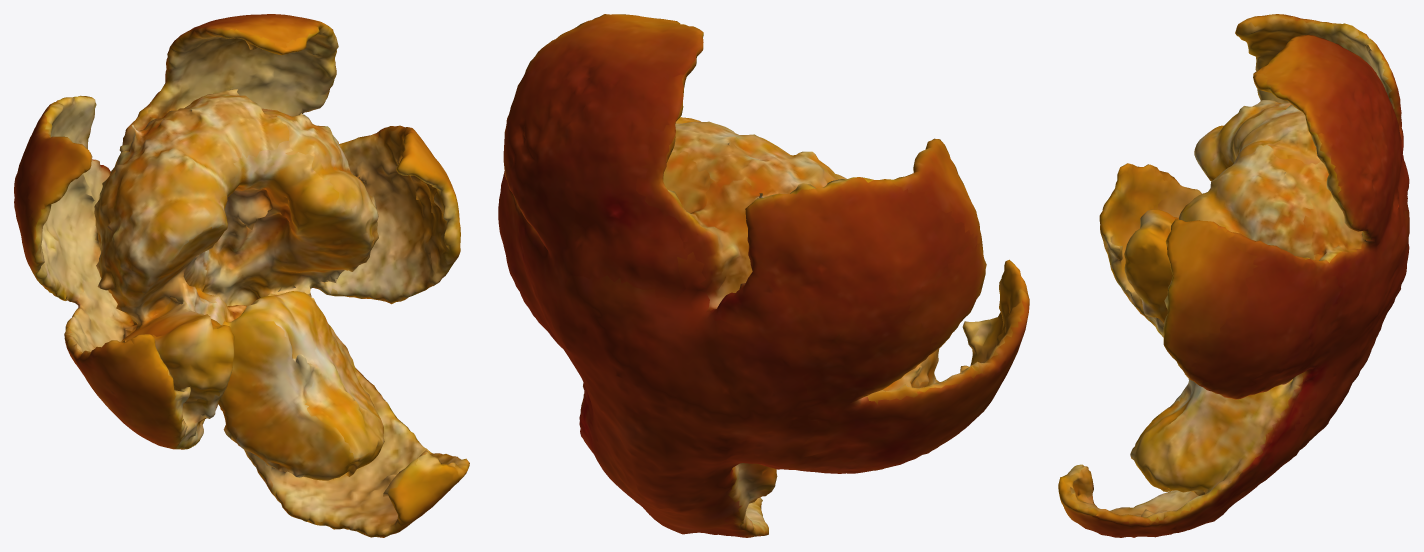
Rendered from MandarinOrange.glb.
3 renders of one model, left to right at view 1: azimuth 30°, elevation 25°; view 2: azimuth 150°, elevation 25°; view 3: azimuth 270°, elevation 25°, orthographic. The views are drawn at different scales.
Parts seen in each view (by area): view 1: MandarinOrange; view 2: MandarinOrange; view 3: MandarinOrange.
Part boxes in pixels (<box>): MandarinOrange: <box>14,14,469,537</box>; MandarinOrange: <box>498,14,1029,537</box>; MandarinOrange: <box>1058,14,1409,537</box>.
Size of the model in its own units: 0.0157 by 0.0174 by 0.0119.
Materials: 1 (1 with a texture image).
